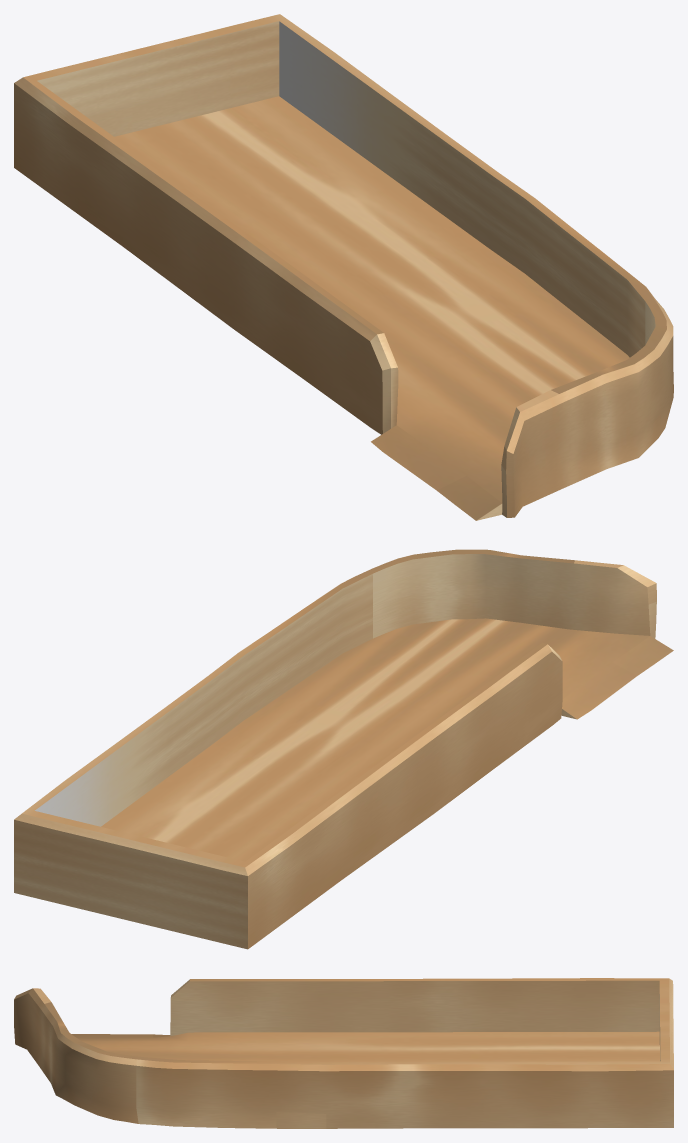
Rendered from Fountain_new.fbx.
3 views of the same model, one above another, from view 1: azimuth 30°, elevation 25°; view 2: azimuth 150°, elevation 25°; view 3: azimuth 270°, elevation 25° (orthographic). The views are drawn at different scales.
Parts seen in each view (by area): view 1: pCube5; view 2: pCube5; view 3: pCube5.
Part boxes in pixels (box(x1,y1,x2,y2)): pCube5: box(14, 14, 673, 520); pCube5: box(14, 549, 673, 949); pCube5: box(14, 978, 673, 1128).
Bounding box in the file's own units: 67.16 × 21.13 × 196.
